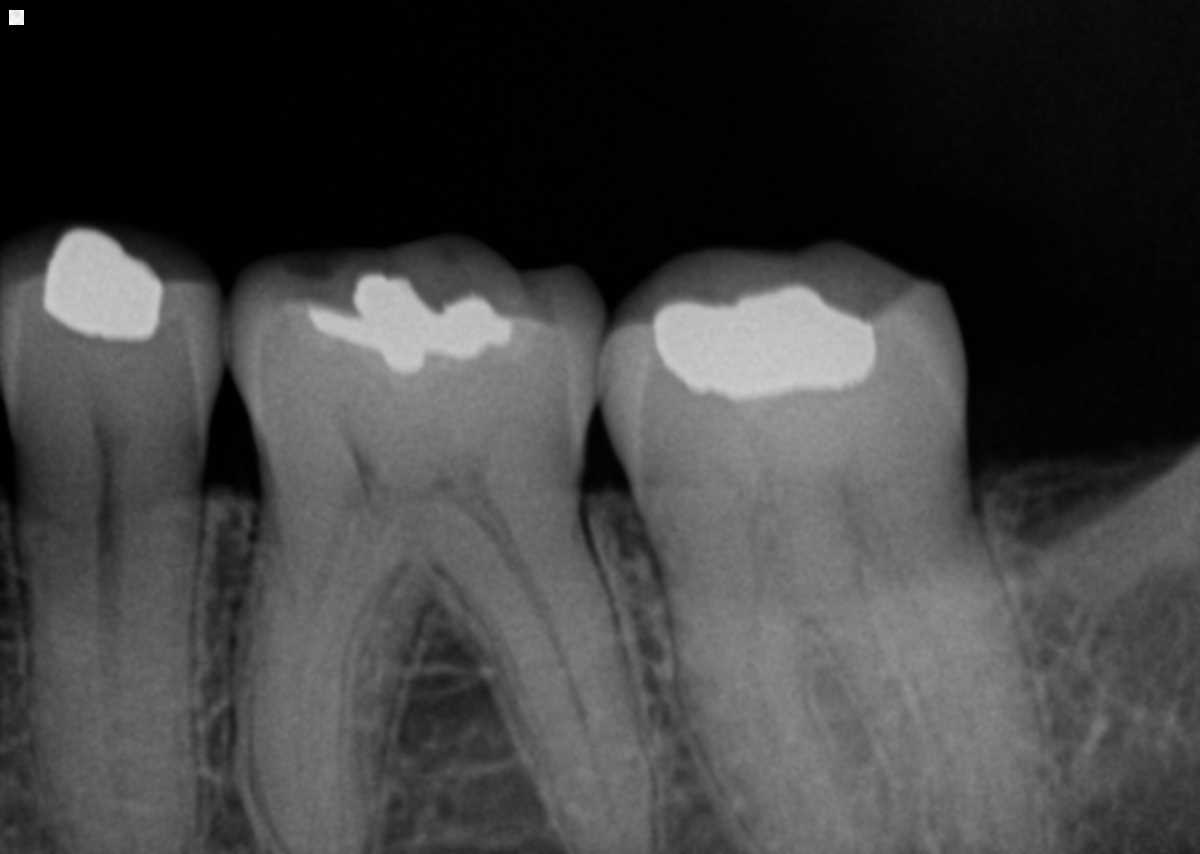Distal Canal: (462, 515, 600, 762)
Distal Root: (794, 483, 1048, 854), (444, 491, 658, 854)
Main Canal: (93, 519, 140, 850)
Main Root: (14, 494, 207, 854)
Mesial Canal: (295, 516, 368, 831)
Mesial Root: (632, 512, 881, 854), (231, 503, 444, 854)
